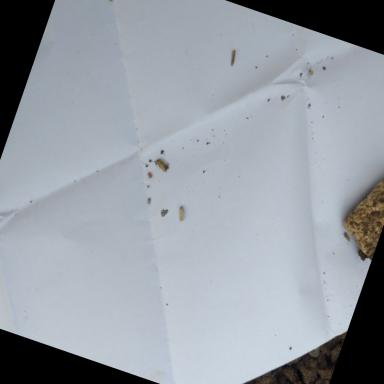pbw: (153, 156, 171, 174), (175, 206, 188, 225), (106, 0, 116, 3)
